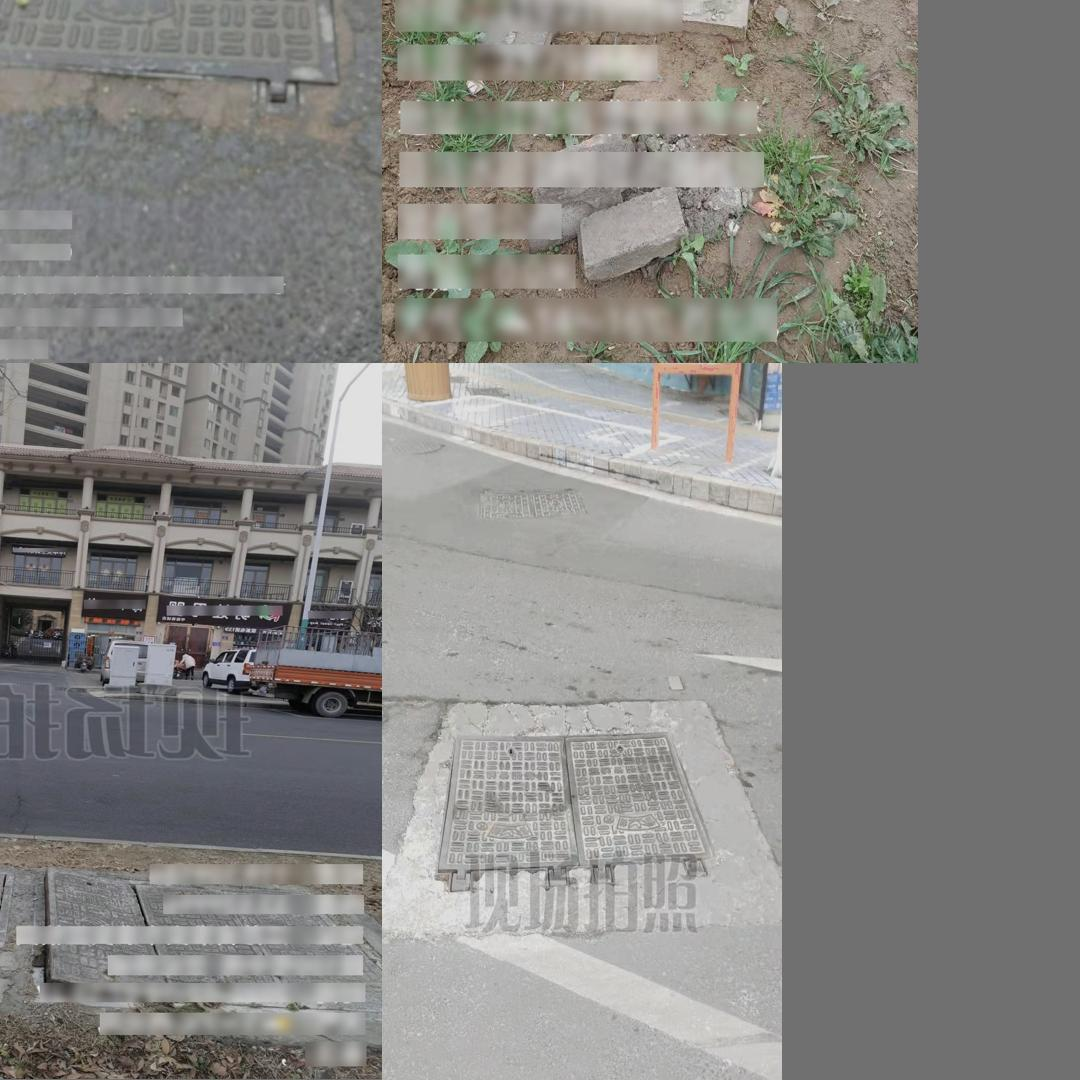good: (434, 733, 714, 895), (0, 0, 339, 112), (0, 859, 13, 954), (544, 0, 742, 4)
uncovered: (35, 870, 376, 1019)
